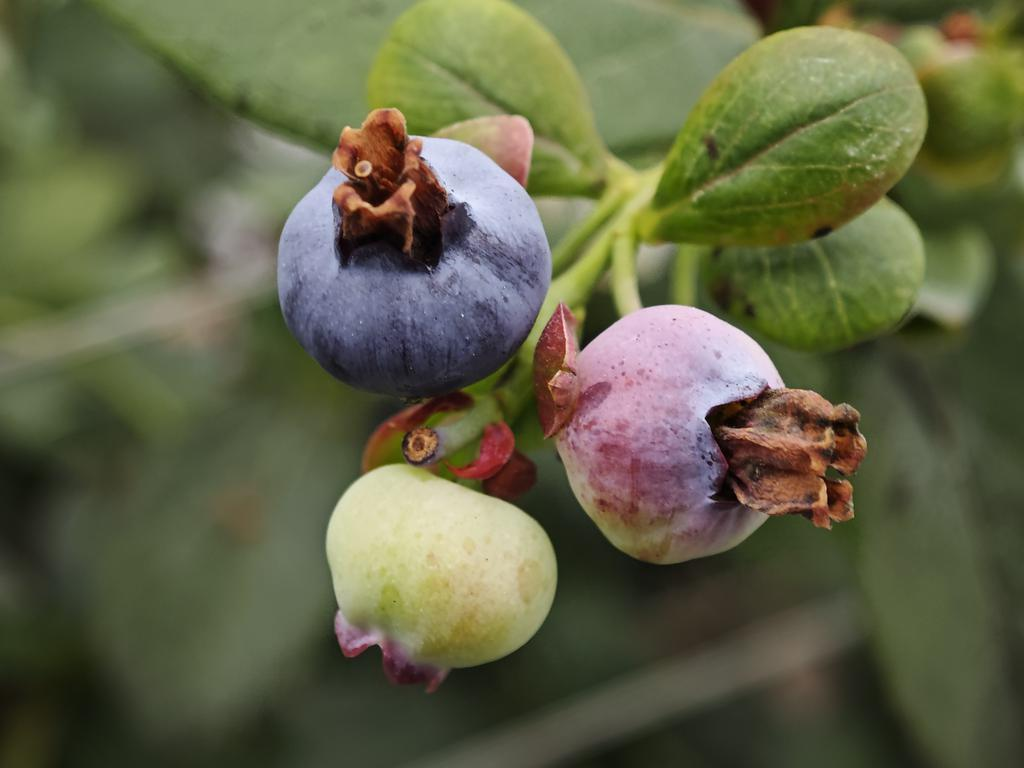RipeBlueBerry: (273, 125, 556, 398)
Semi-RipeBlueBerry: (559, 300, 806, 569)
UnripeBlueBerry: (322, 462, 560, 682)
